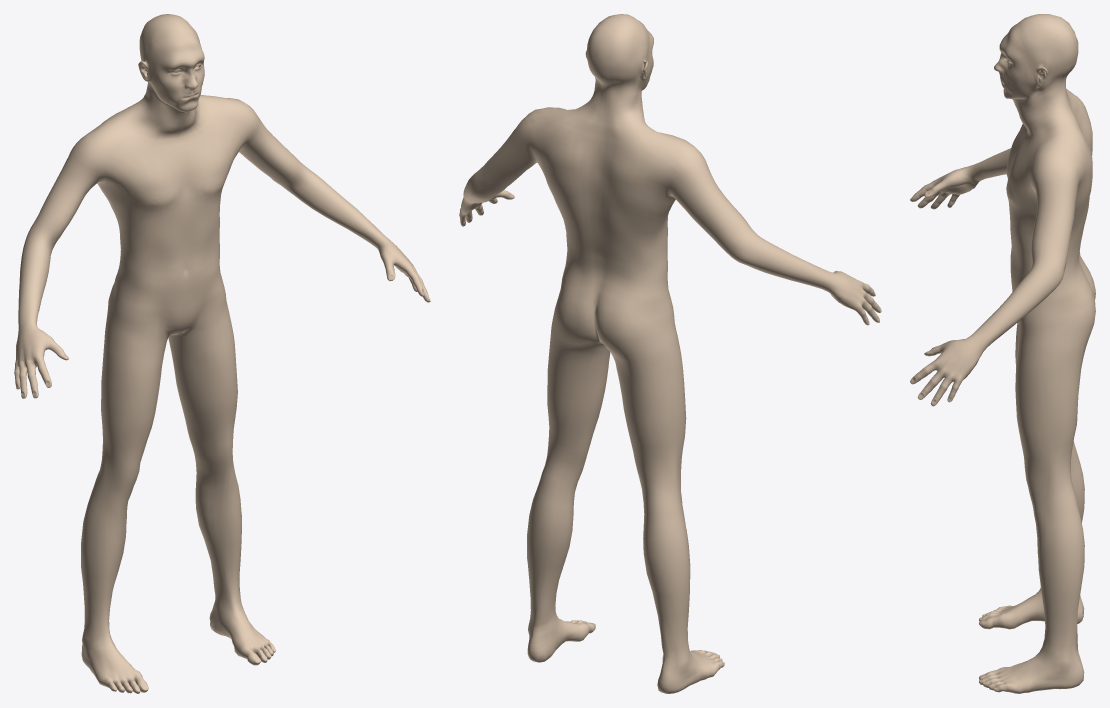
Rendered from male_body.fbx.
3 views of the same model, side by side, from view 1: azimuth 30°, elevation 25°; view 2: azimuth 150°, elevation 25°; view 3: azimuth 270°, elevation 25° (orthographic).
Visible parts, largest first — view 1: Human; view 2: Human; view 3: Human.
Part boxes in pixels (left/top/right/bottom): Human: left=14, top=14, right=430, bottom=693; Human: left=459, top=14, right=881, bottom=693; Human: left=910, top=14, right=1095, bottom=693.
Bounding box in the file's own units: 122 × 184 × 48.47.
